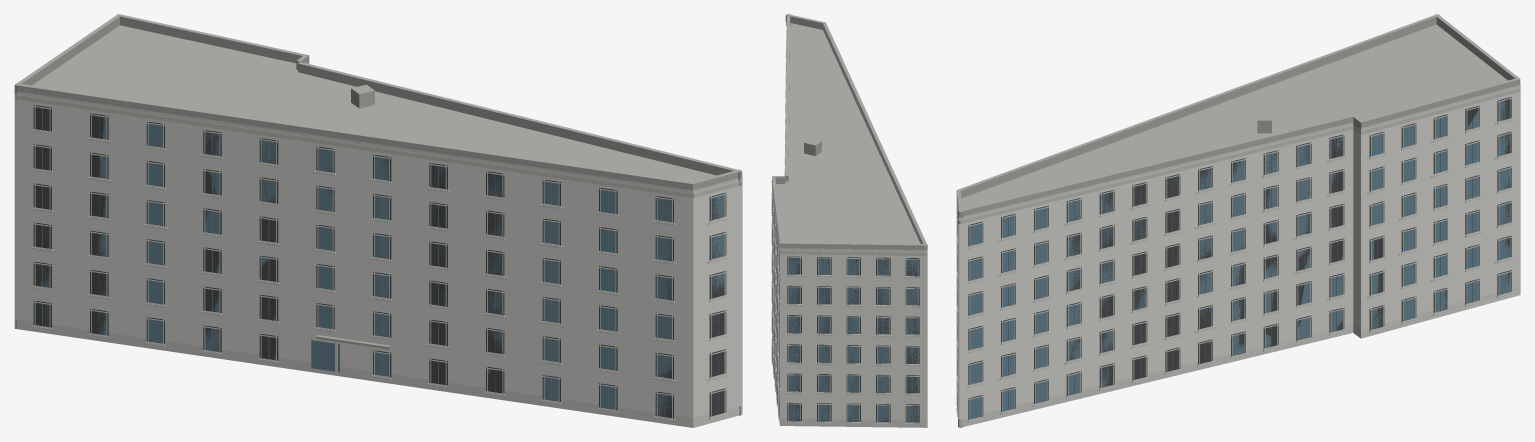
File: cop_residencial_anos70_04__way_488128348.fbx
3 renders of one model, left to right at view 1: azimuth 30°, elevation 25°; view 2: azimuth 150°, elevation 25°; view 3: azimuth 270°, elevation 25°, orthographic. The views are drawn at different scales.
Parts seen in each view (by area): view 1: cop_residencial_anos70_04__way_488128348_wall, cop_residencial_anos70_04__way_488128348_roof, cop_residencial_anos70_04__way_488128348_shadow, cop_residencial_anos70_04__way_488128348_glass, cop_residencial_anos70_04__way_488128348_trim, cop_residencial_anos70_04__way_488128348_stone, cop_residencial_anos70_04__way_488128348_metal; view 2: cop_residencial_anos70_04__way_488128348_roof, cop_residencial_anos70_04__way_488128348_wall, cop_residencial_anos70_04__way_488128348_glass, cop_residencial_anos70_04__way_488128348_shadow, cop_residencial_anos70_04__way_488128348_trim, cop_residencial_anos70_04__way_488128348_stone, cop_residencial_anos70_04__way_488128348_metal; view 3: cop_residencial_anos70_04__way_488128348_wall, cop_residencial_anos70_04__way_488128348_roof, cop_residencial_anos70_04__way_488128348_glass, cop_residencial_anos70_04__way_488128348_shadow, cop_residencial_anos70_04__way_488128348_trim, cop_residencial_anos70_04__way_488128348_stone, cop_residencial_anos70_04__way_488128348_metal.
Boxes of the visible parts, box(x1,y1,x2,y2) form: cop_residencial_anos70_04__way_488128348_wall: box(14, 94, 742, 427); cop_residencial_anos70_04__way_488128348_roof: box(14, 14, 742, 349); cop_residencial_anos70_04__way_488128348_shadow: box(33, 105, 726, 418); cop_residencial_anos70_04__way_488128348_glass: box(36, 117, 724, 416); cop_residencial_anos70_04__way_488128348_trim: box(14, 95, 742, 419); cop_residencial_anos70_04__way_488128348_stone: box(14, 63, 742, 427); cop_residencial_anos70_04__way_488128348_metal: box(42, 108, 718, 416); cop_residencial_anos70_04__way_488128348_roof: box(772, 14, 927, 251); cop_residencial_anos70_04__way_488128348_wall: box(772, 189, 927, 427); cop_residencial_anos70_04__way_488128348_glass: box(789, 258, 918, 422); cop_residencial_anos70_04__way_488128348_shadow: box(772, 181, 919, 422); cop_residencial_anos70_04__way_488128348_trim: box(771, 22, 927, 423); cop_residencial_anos70_04__way_488128348_stone: box(771, 54, 927, 427); cop_residencial_anos70_04__way_488128348_metal: box(773, 212, 912, 422); cop_residencial_anos70_04__way_488128348_wall: box(956, 87, 1520, 425); cop_residencial_anos70_04__way_488128348_roof: box(956, 14, 1520, 217); cop_residencial_anos70_04__way_488128348_glass: box(970, 100, 1510, 419); cop_residencial_anos70_04__way_488128348_shadow: box(957, 96, 1511, 419); cop_residencial_anos70_04__way_488128348_trim: box(956, 88, 1520, 420); cop_residencial_anos70_04__way_488128348_stone: box(956, 84, 1520, 427); cop_residencial_anos70_04__way_488128348_metal: box(957, 101, 1504, 417).
Size of the model in its own units: 3674 by 1912 by 4423.
